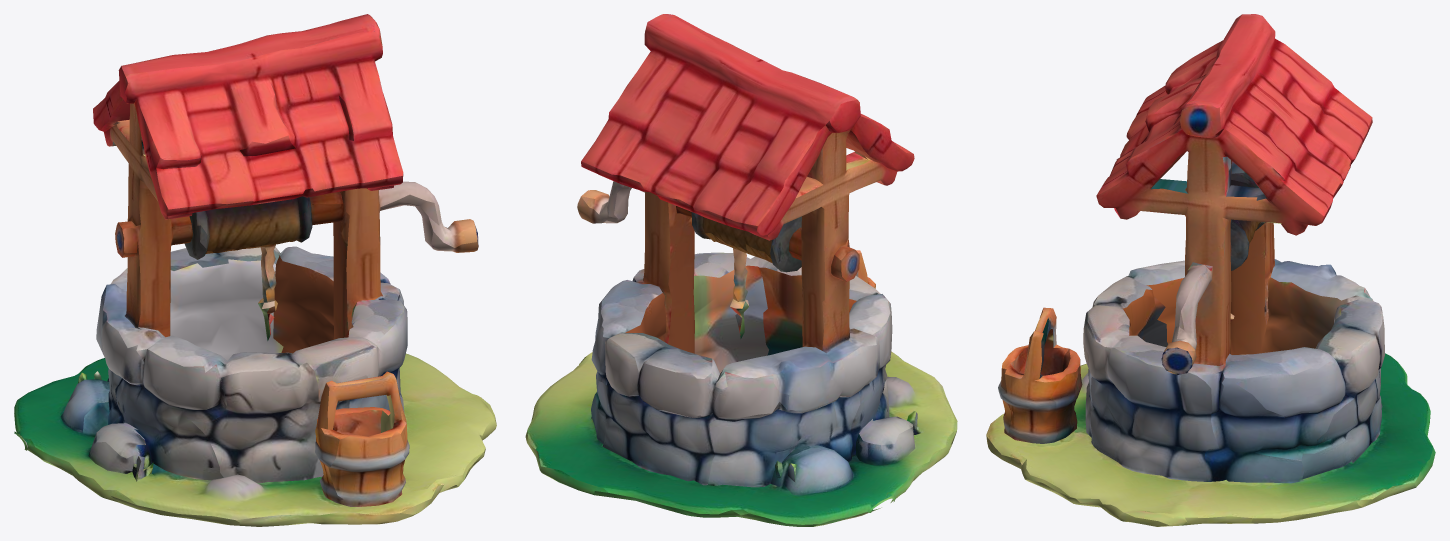
Rendered from well.glb.
3 views of the same model, side by side, from view 1: azimuth 30°, elevation 25°; view 2: azimuth 150°, elevation 25°; view 3: azimuth 270°, elevation 25° (orthographic). The views are drawn at different scales.
Visible parts, largest first — view 1: well_s15; view 2: well_s15; view 3: well_s15.
Boxes of the visible parts, left/top/right/bottom form: well_s15: left=14, top=14, right=496, bottom=526; well_s15: left=525, top=14, right=957, bottom=526; well_s15: left=986, top=14, right=1435, bottom=526.
Size of the model in its own units: 0.9591 by 0.9347 by 1.
Materials: 1 (1 with a texture image).
